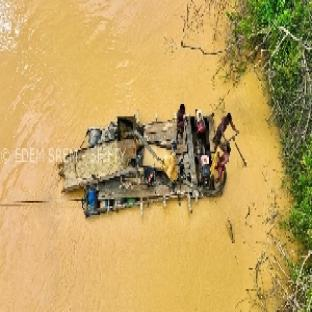ProcessingEquipment: (86, 108, 227, 217)
